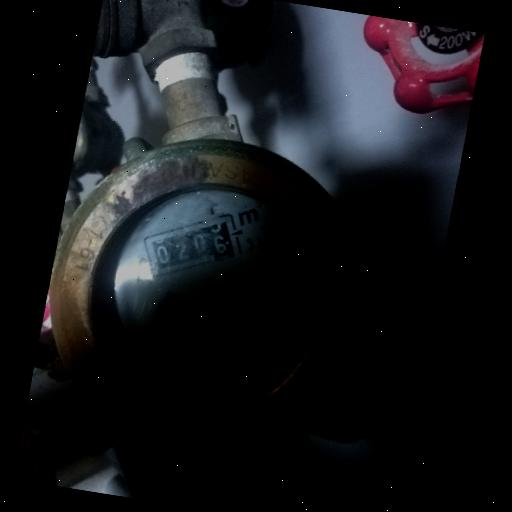0: (181, 223, 218, 263), (147, 234, 181, 271)
2: (163, 229, 200, 268)
6: (199, 218, 241, 265)
border_water_meter_number: (134, 199, 249, 291)
